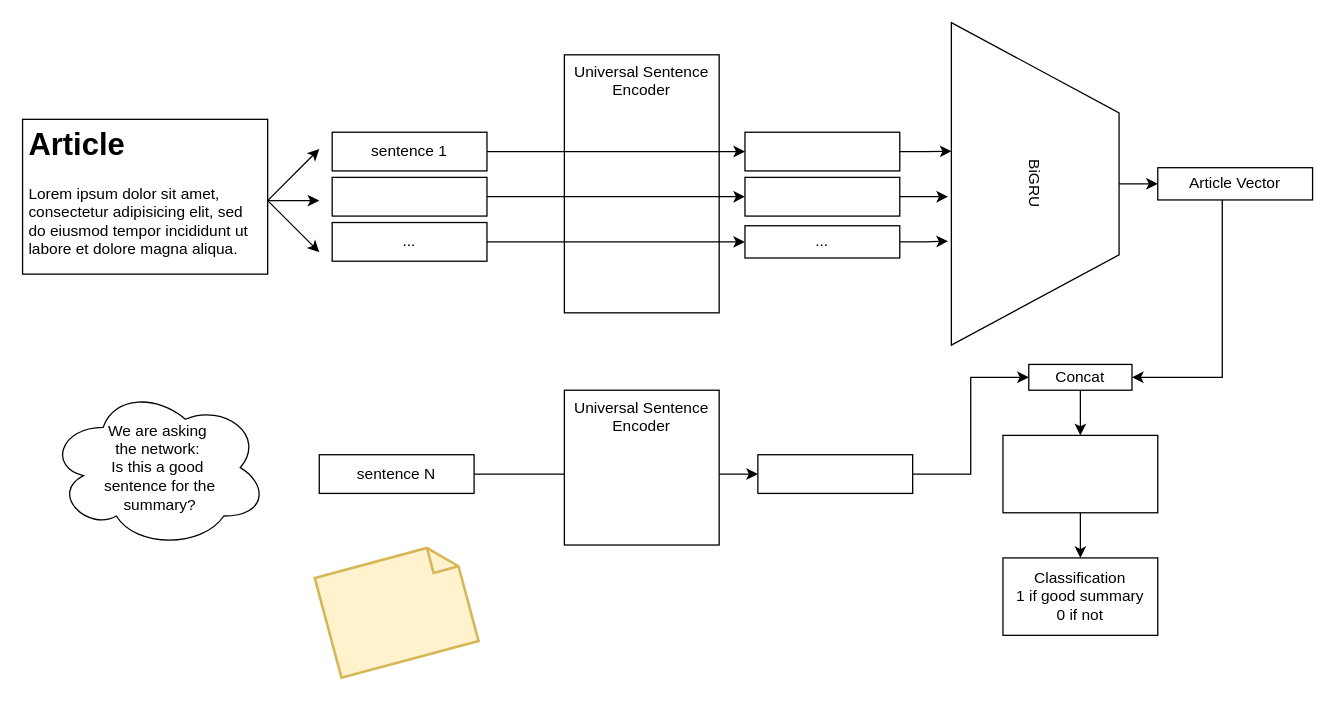
The diagram is 1335 pixels wide and 702 high, and some of its shapes have lost their labels. Each missing label, with the centre of its shape:
Dense Layer: (1080,473)
Repeat for each sentence in Article: (396,609)
sentence 2: (409,196)
Vector 1: (822,151)
Vector 2: (822,196)
Vector N: (835,473)
